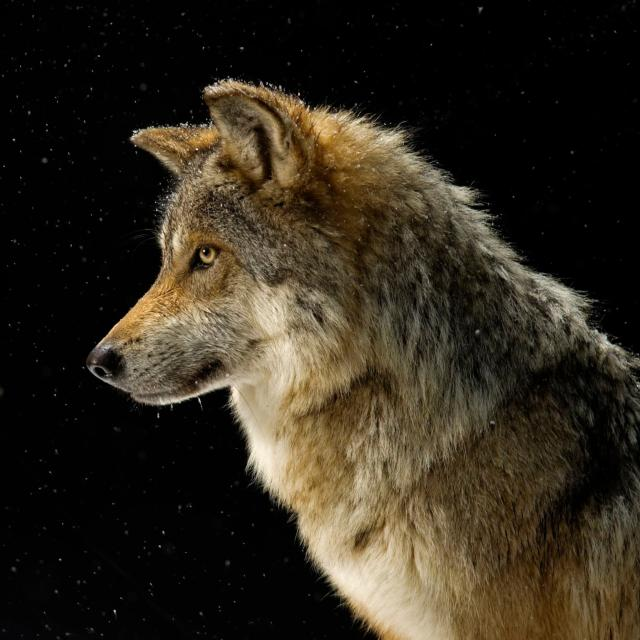Wolf: (75, 70, 640, 640)
